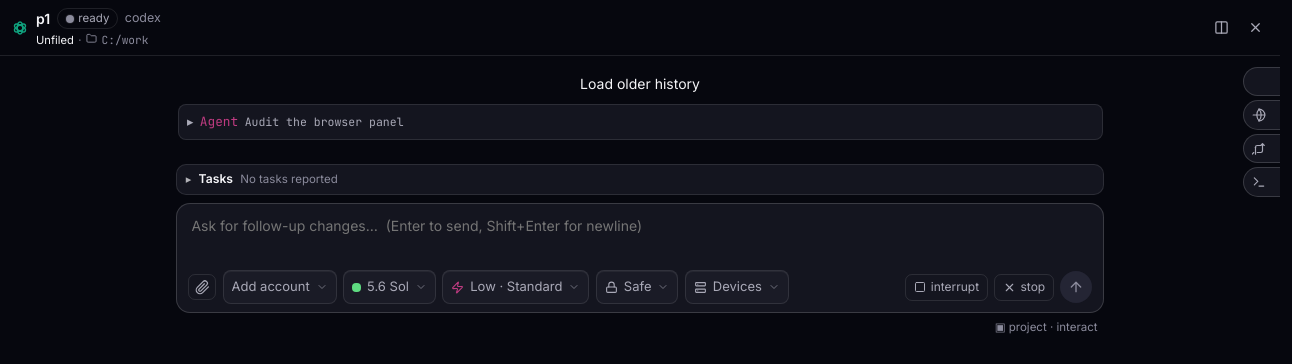
Scenario: transcript interaction boundaries › opens Browser as the same mutually-exclusive in-flow side panel used by Agents
The width and height of the screenshot is (1292, 364).
Click the button titled "Open isolated browser controls": coordinates (1262, 115) [1243,100,1280,130]
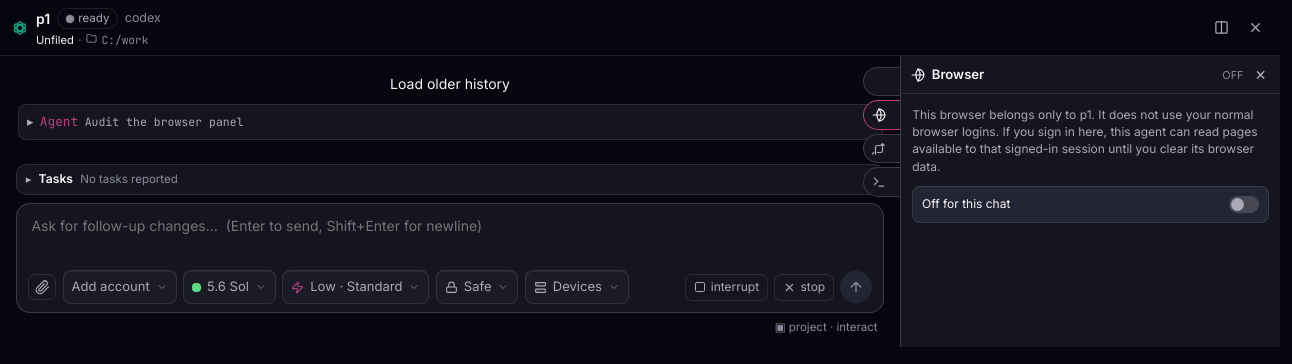
Expected: the element "Browser" is shown, [900,56,1280,347]
Click the button titled "Show the agents this chat spawned": coordinates (882, 82) [863,67,900,96]
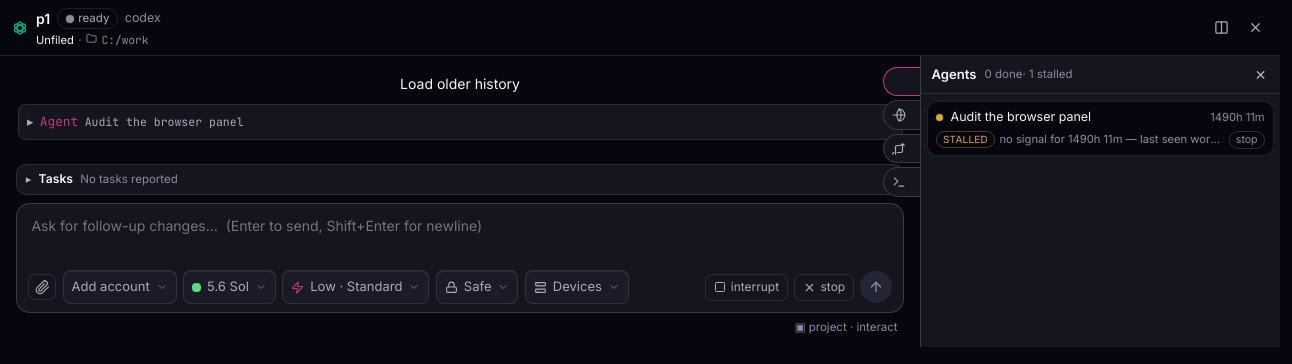
Expected: the element "Agents" is shown, [920,56,1280,347]
